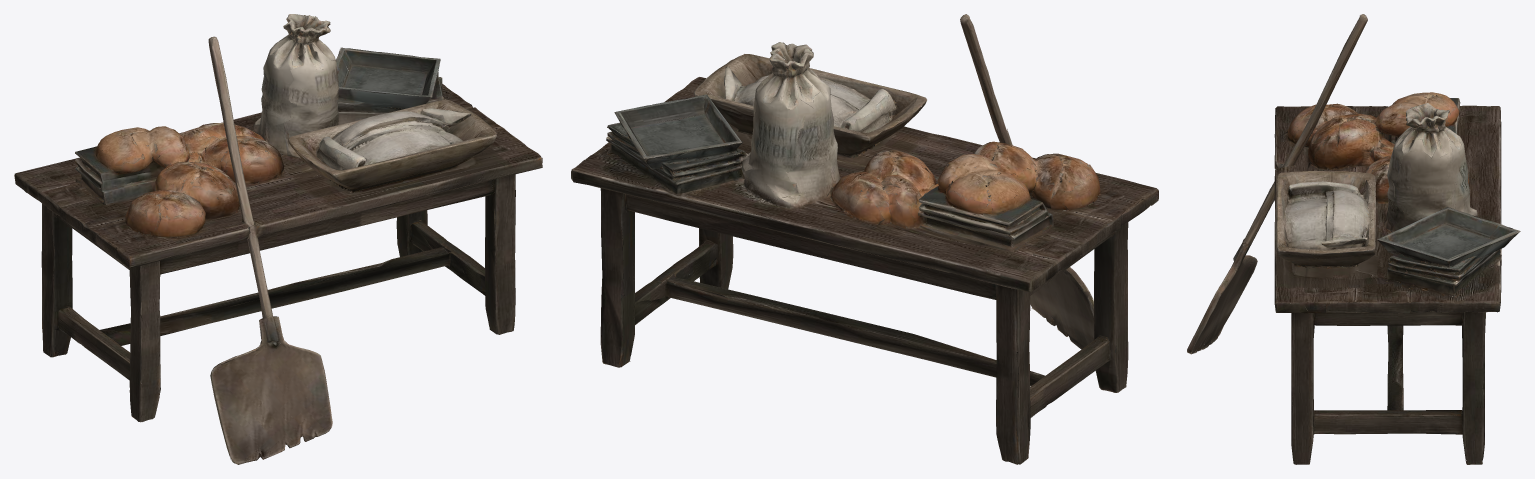
Rendered from baker-stock-cluster.glb.
3 views of the same model, side by side, from view 1: azimuth 30°, elevation 25°; view 2: azimuth 150°, elevation 25°; view 3: azimuth 270°, elevation 25° (orthographic). The views are drawn at different scales.
Visible parts, largest first — view 1: Mesh_0; view 2: Mesh_0; view 3: Mesh_0.
Part boxes in pixels (left/top/right/bottom): Mesh_0: left=14, top=14, right=542, bottom=464; Mesh_0: left=571, top=14, right=1158, bottom=464; Mesh_0: left=1187, top=14, right=1520, bottom=464.
Bounding box in the file's own units: 1.9 × 1.57 × 1.36.
Materials: 1 (1 with a texture image).
